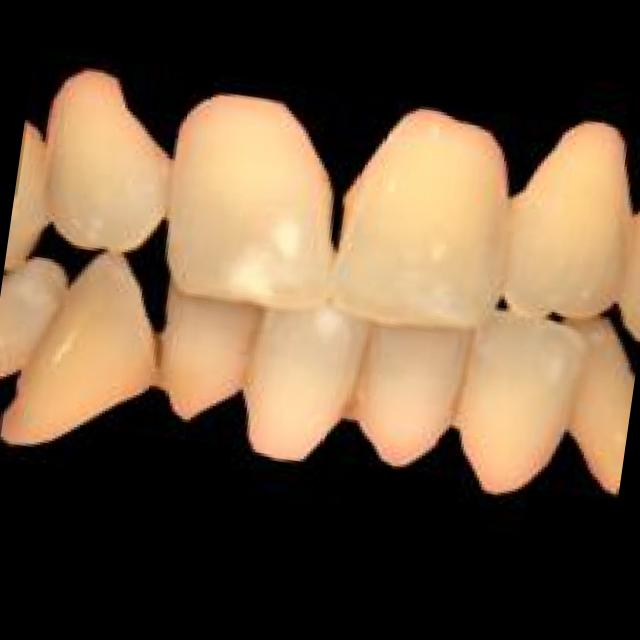1: (151, 78, 351, 314), (327, 95, 516, 338), (0, 235, 162, 461), (492, 106, 640, 324), (32, 58, 178, 256), (454, 308, 576, 502), (235, 297, 356, 466), (355, 324, 468, 474), (152, 284, 257, 421)
karies: (344, 339, 381, 425), (138, 330, 176, 391), (236, 326, 258, 384), (450, 354, 468, 423)
